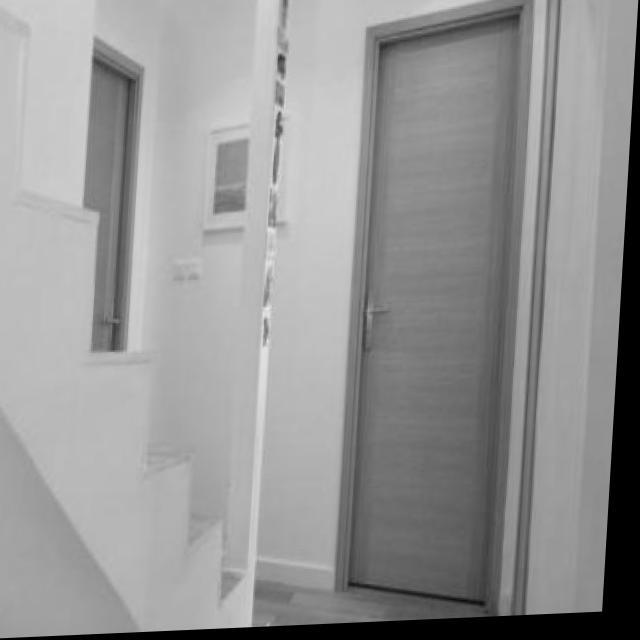door_handle: (362, 305, 409, 329)
